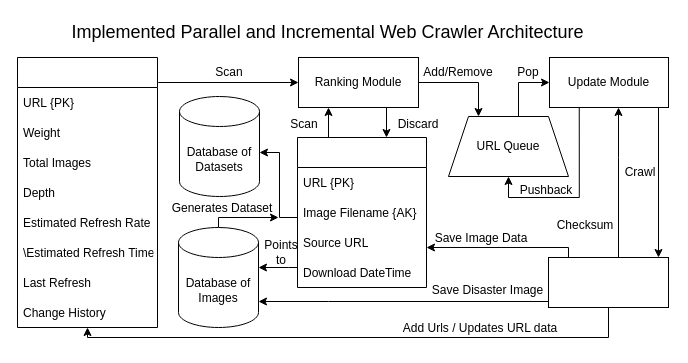
Image size: 688x363. Some labels were removed from this diagram. The shapes that lost their labels are listed below. From the top down, each one's box as (x1, y1, x2, y2) in pixels, then its label:
(16, 56, 158, 328): URL Table
(296, 136, 426, 288): Image Table
(548, 256, 668, 308): Crawl Module Threads
